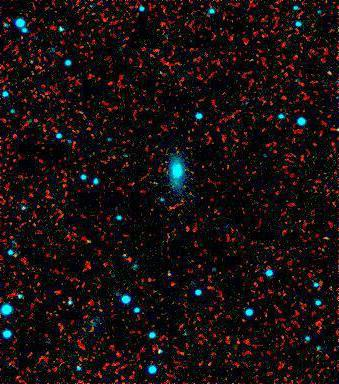star: (72, 224, 102, 254)
